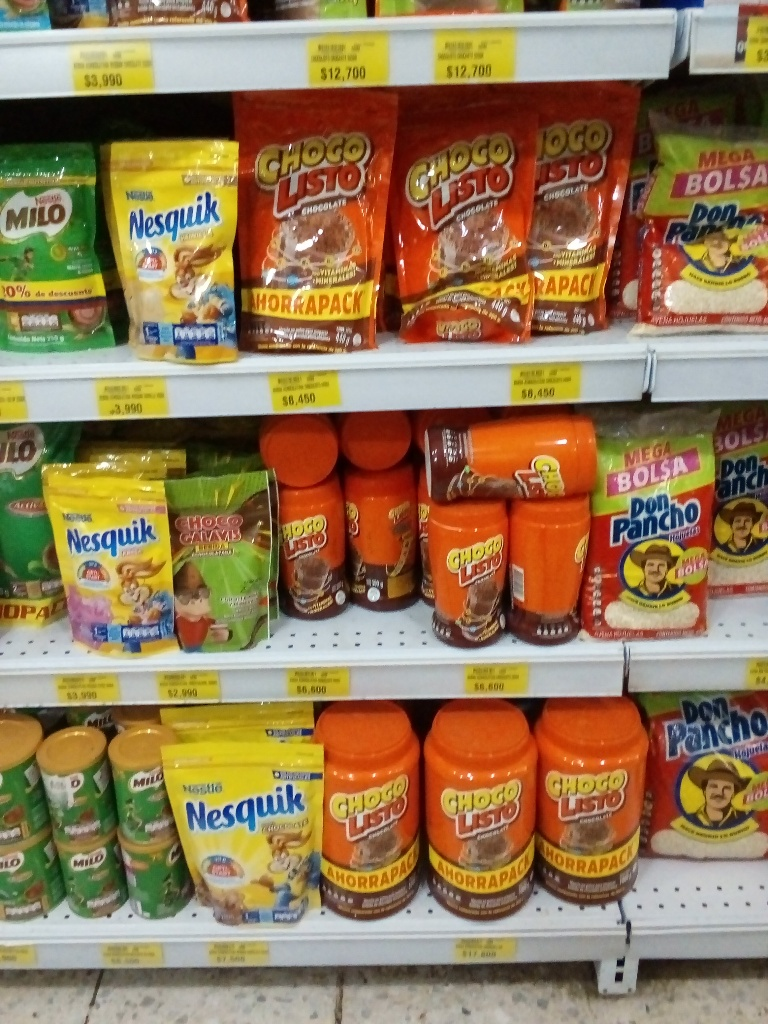COL0170103DYP44000: (223, 87, 382, 349)
COL0170103TRR00100: (324, 700, 425, 921)
COL0170103TRR30000: (423, 416, 596, 503)
COL0170203DYP25000: (2, 142, 104, 361)
COL0170203LAT20000: (33, 714, 101, 848)
COL0170203LAT40000: (0, 714, 48, 840)
COL0170305DYP20000: (52, 437, 187, 661)
COL0170306DYP20000: (104, 138, 236, 360)
